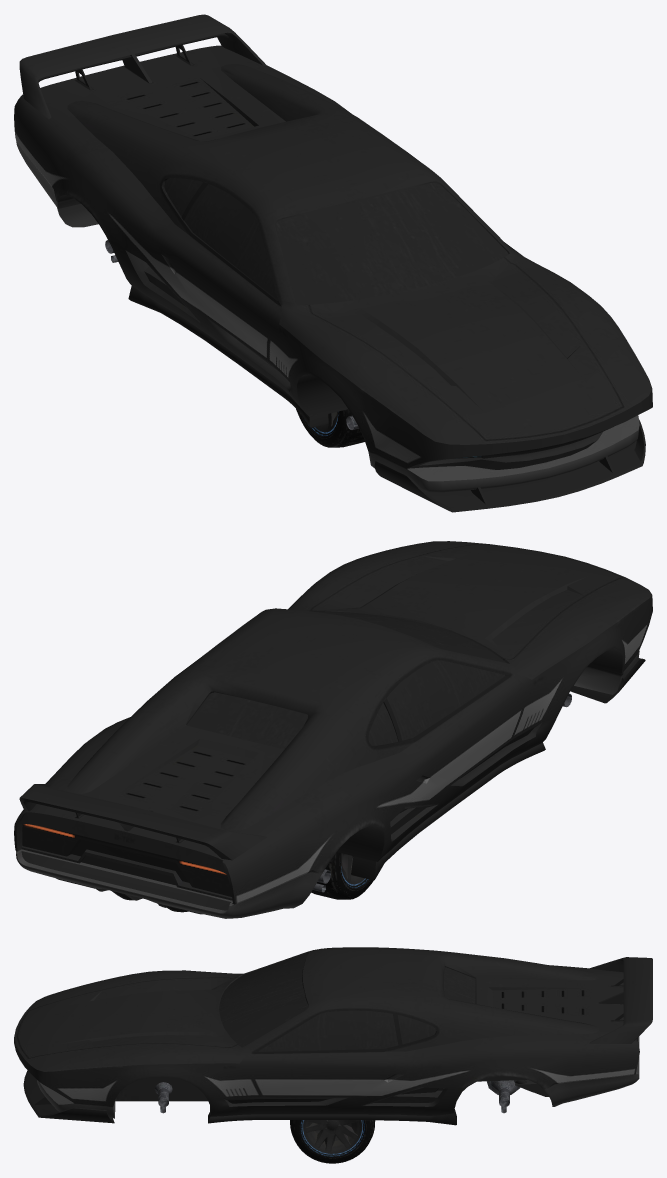
The model's file is comet-night.glb.
3 renders of one model, top to bottom at view 1: azimuth 30°, elevation 25°; view 2: azimuth 150°, elevation 25°; view 3: azimuth 270°, elevation 25°, orthographic. The views are drawn at different scales.
Parts seen in each view (by area): view 1: body, wheel-back-right; view 2: body, wheel-back-right; view 3: body, wheel-back-left, wheel-front-left, wheel-front-right.
Part boxes in pixels (<box>): body: <box>14,14,652,512</box>; wheel-back-right: <box>296,409,362,447</box>; body: <box>14,541,652,918</box>; wheel-back-right: <box>325,852,373,899</box>; body: <box>14,947,652,1125</box>; wheel-back-left: <box>290,1120,375,1163</box>; wheel-front-left: <box>290,1120,374,1163</box>; wheel-front-right: <box>292,1120,375,1163</box>.
Size of the model in its own units: 1.97 by 1.79 by 5.54.
Materials: 1 (1 with a texture image).
